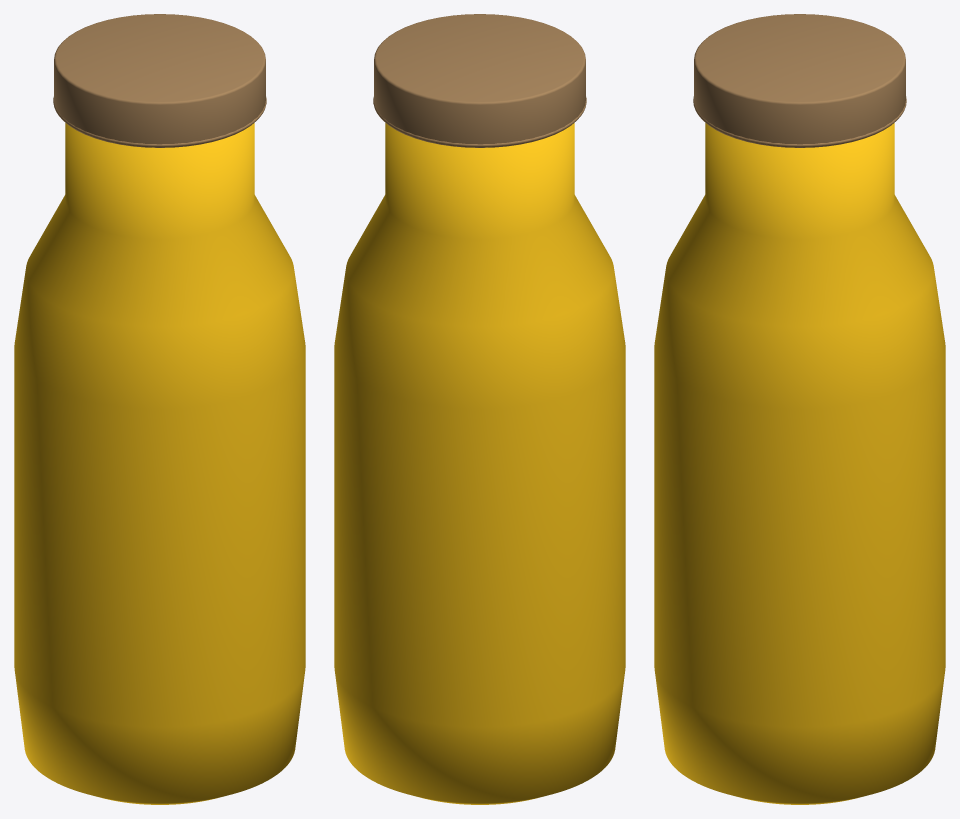
Rendered from fridge_contents__yellow_drink_bottle.glb.
3 views of the same model, side by side, from view 1: azimuth 30°, elevation 25°; view 2: azimuth 150°, elevation 25°; view 3: azimuth 270°, elevation 25° (orthographic).
Visible parts, largest first — view 1: hollow container, removable closure, closure lower bead; view 2: hollow container, removable closure, closure lower bead; view 3: hollow container, removable closure, closure lower bead.
Part boxes in pixels (box(x1,y1,x2,y2)): hollow container: box(14, 123, 305, 804); removable closure: box(54, 14, 265, 147); closure lower bead: box(53, 97, 266, 147); hollow container: box(334, 123, 625, 804); removable closure: box(374, 14, 585, 147); closure lower bead: box(373, 97, 586, 147); hollow container: box(654, 123, 945, 804); removable closure: box(694, 14, 905, 147); closure lower bead: box(693, 96, 906, 147).
Size of the model in its own units: 0.086 by 0.23 by 0.086.
